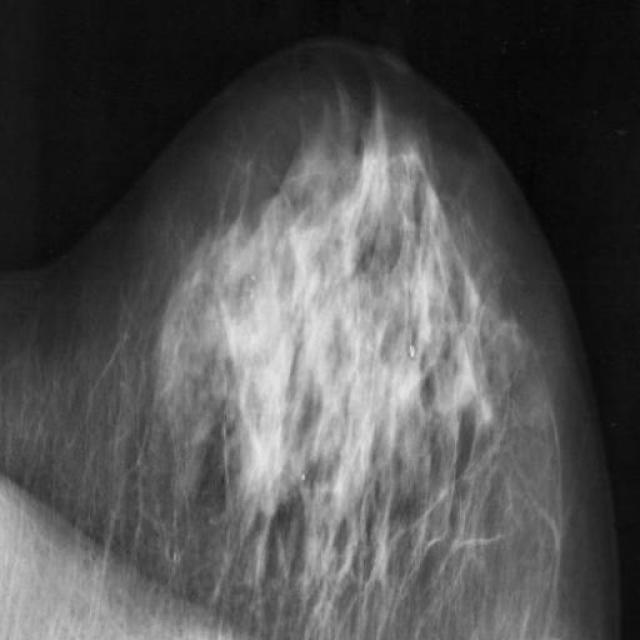cancer: (264, 150, 308, 236)
